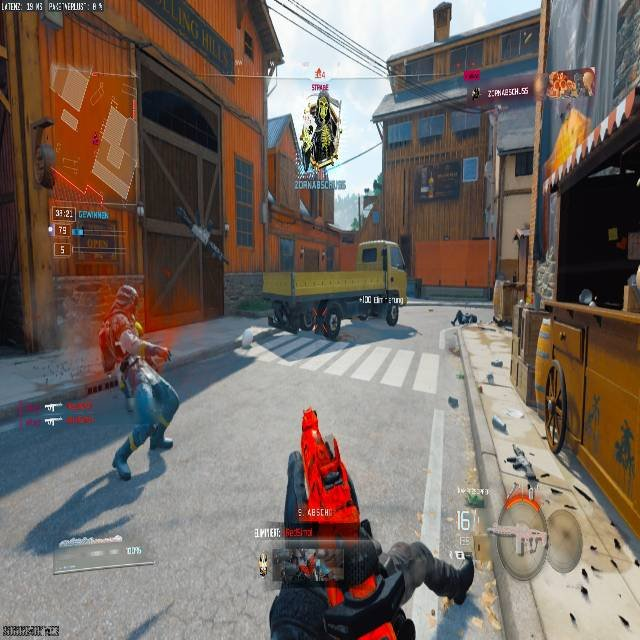head: (111, 284, 139, 316)
player: (96, 284, 178, 481), (299, 88, 342, 173)
